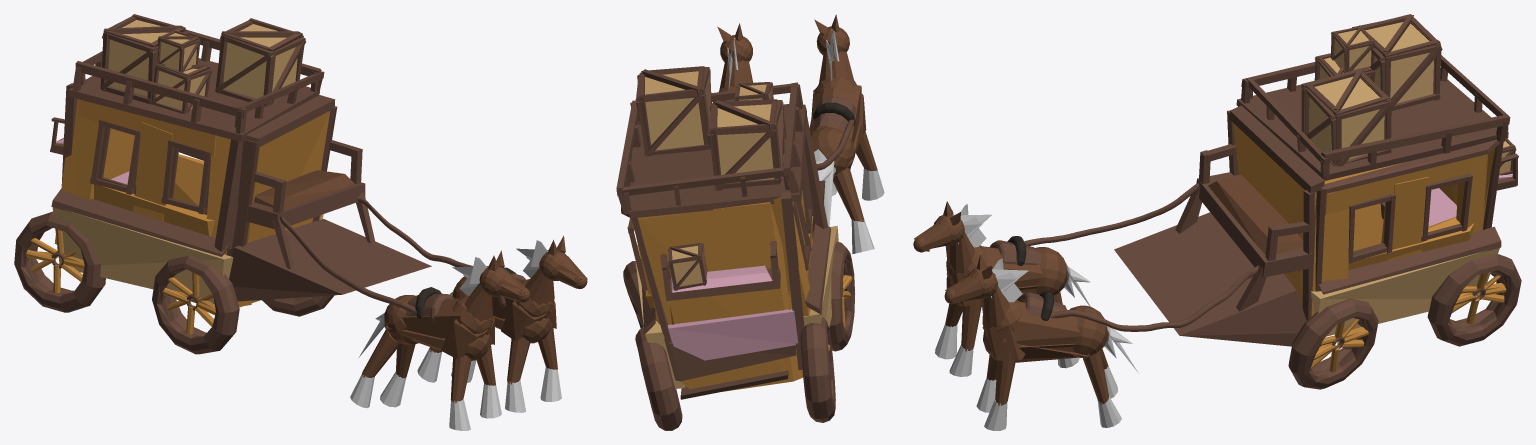
Rendered from carriage.fbx.
3 renders of one model, left to right at view 1: azimuth 30°, elevation 25°; view 2: azimuth 150°, elevation 25°; view 3: azimuth 270°, elevation 25°, orthographic. The views are drawn at different scales.
Visible parts, largest first — view 1: group1590990939; view 2: group1590990939; view 3: group1590990939.
Part boxes in pixels (x1=…): group1590990939: x1=14, y1=14, x2=587, y2=430; group1590990939: x1=616, y1=14, x2=884, y2=430; group1590990939: x1=913, y1=14, x2=1521, y2=430.
Size of the model in its own units: 0.6495 by 0.5583 by 1.
